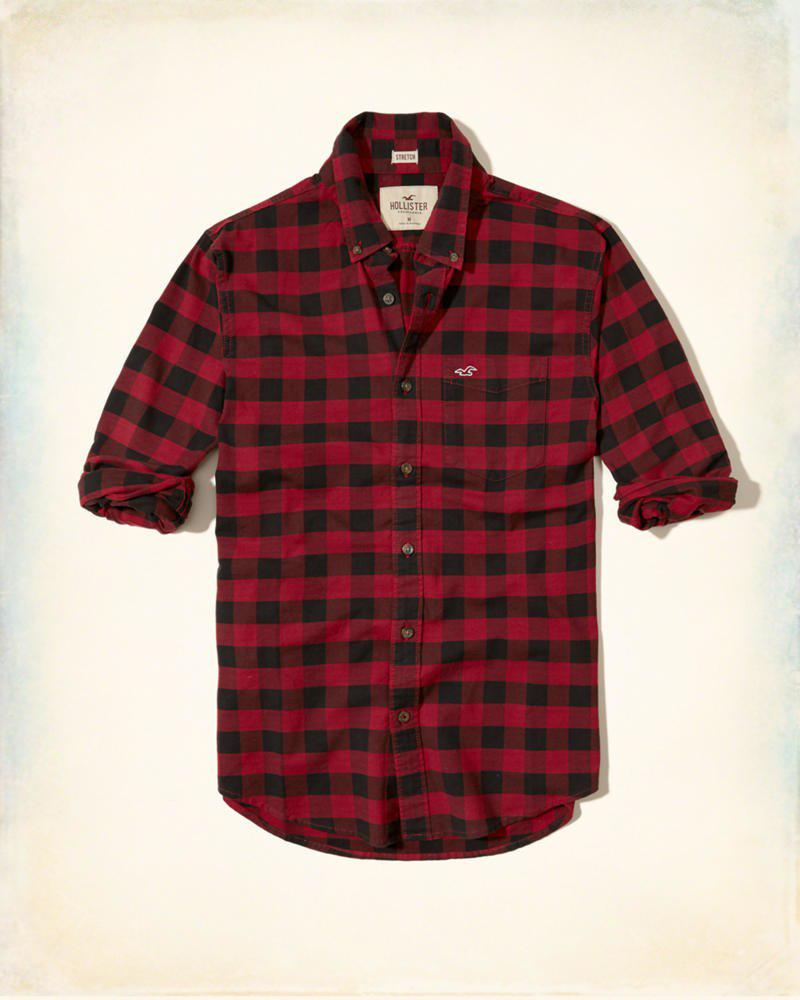teeshirt: (80, 112, 747, 865)
